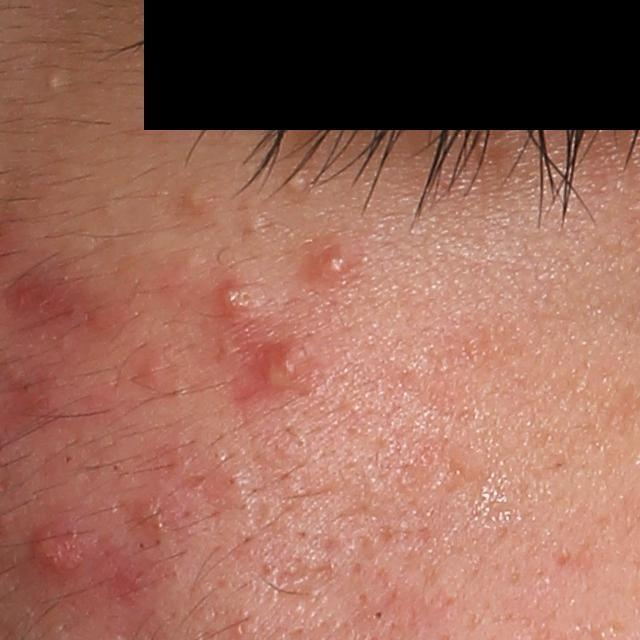comedo: (277, 166, 310, 200), (240, 214, 267, 241), (37, 73, 62, 94), (369, 608, 384, 621)
papule: (21, 516, 89, 589), (246, 335, 317, 397), (3, 273, 64, 326), (182, 188, 214, 216)
